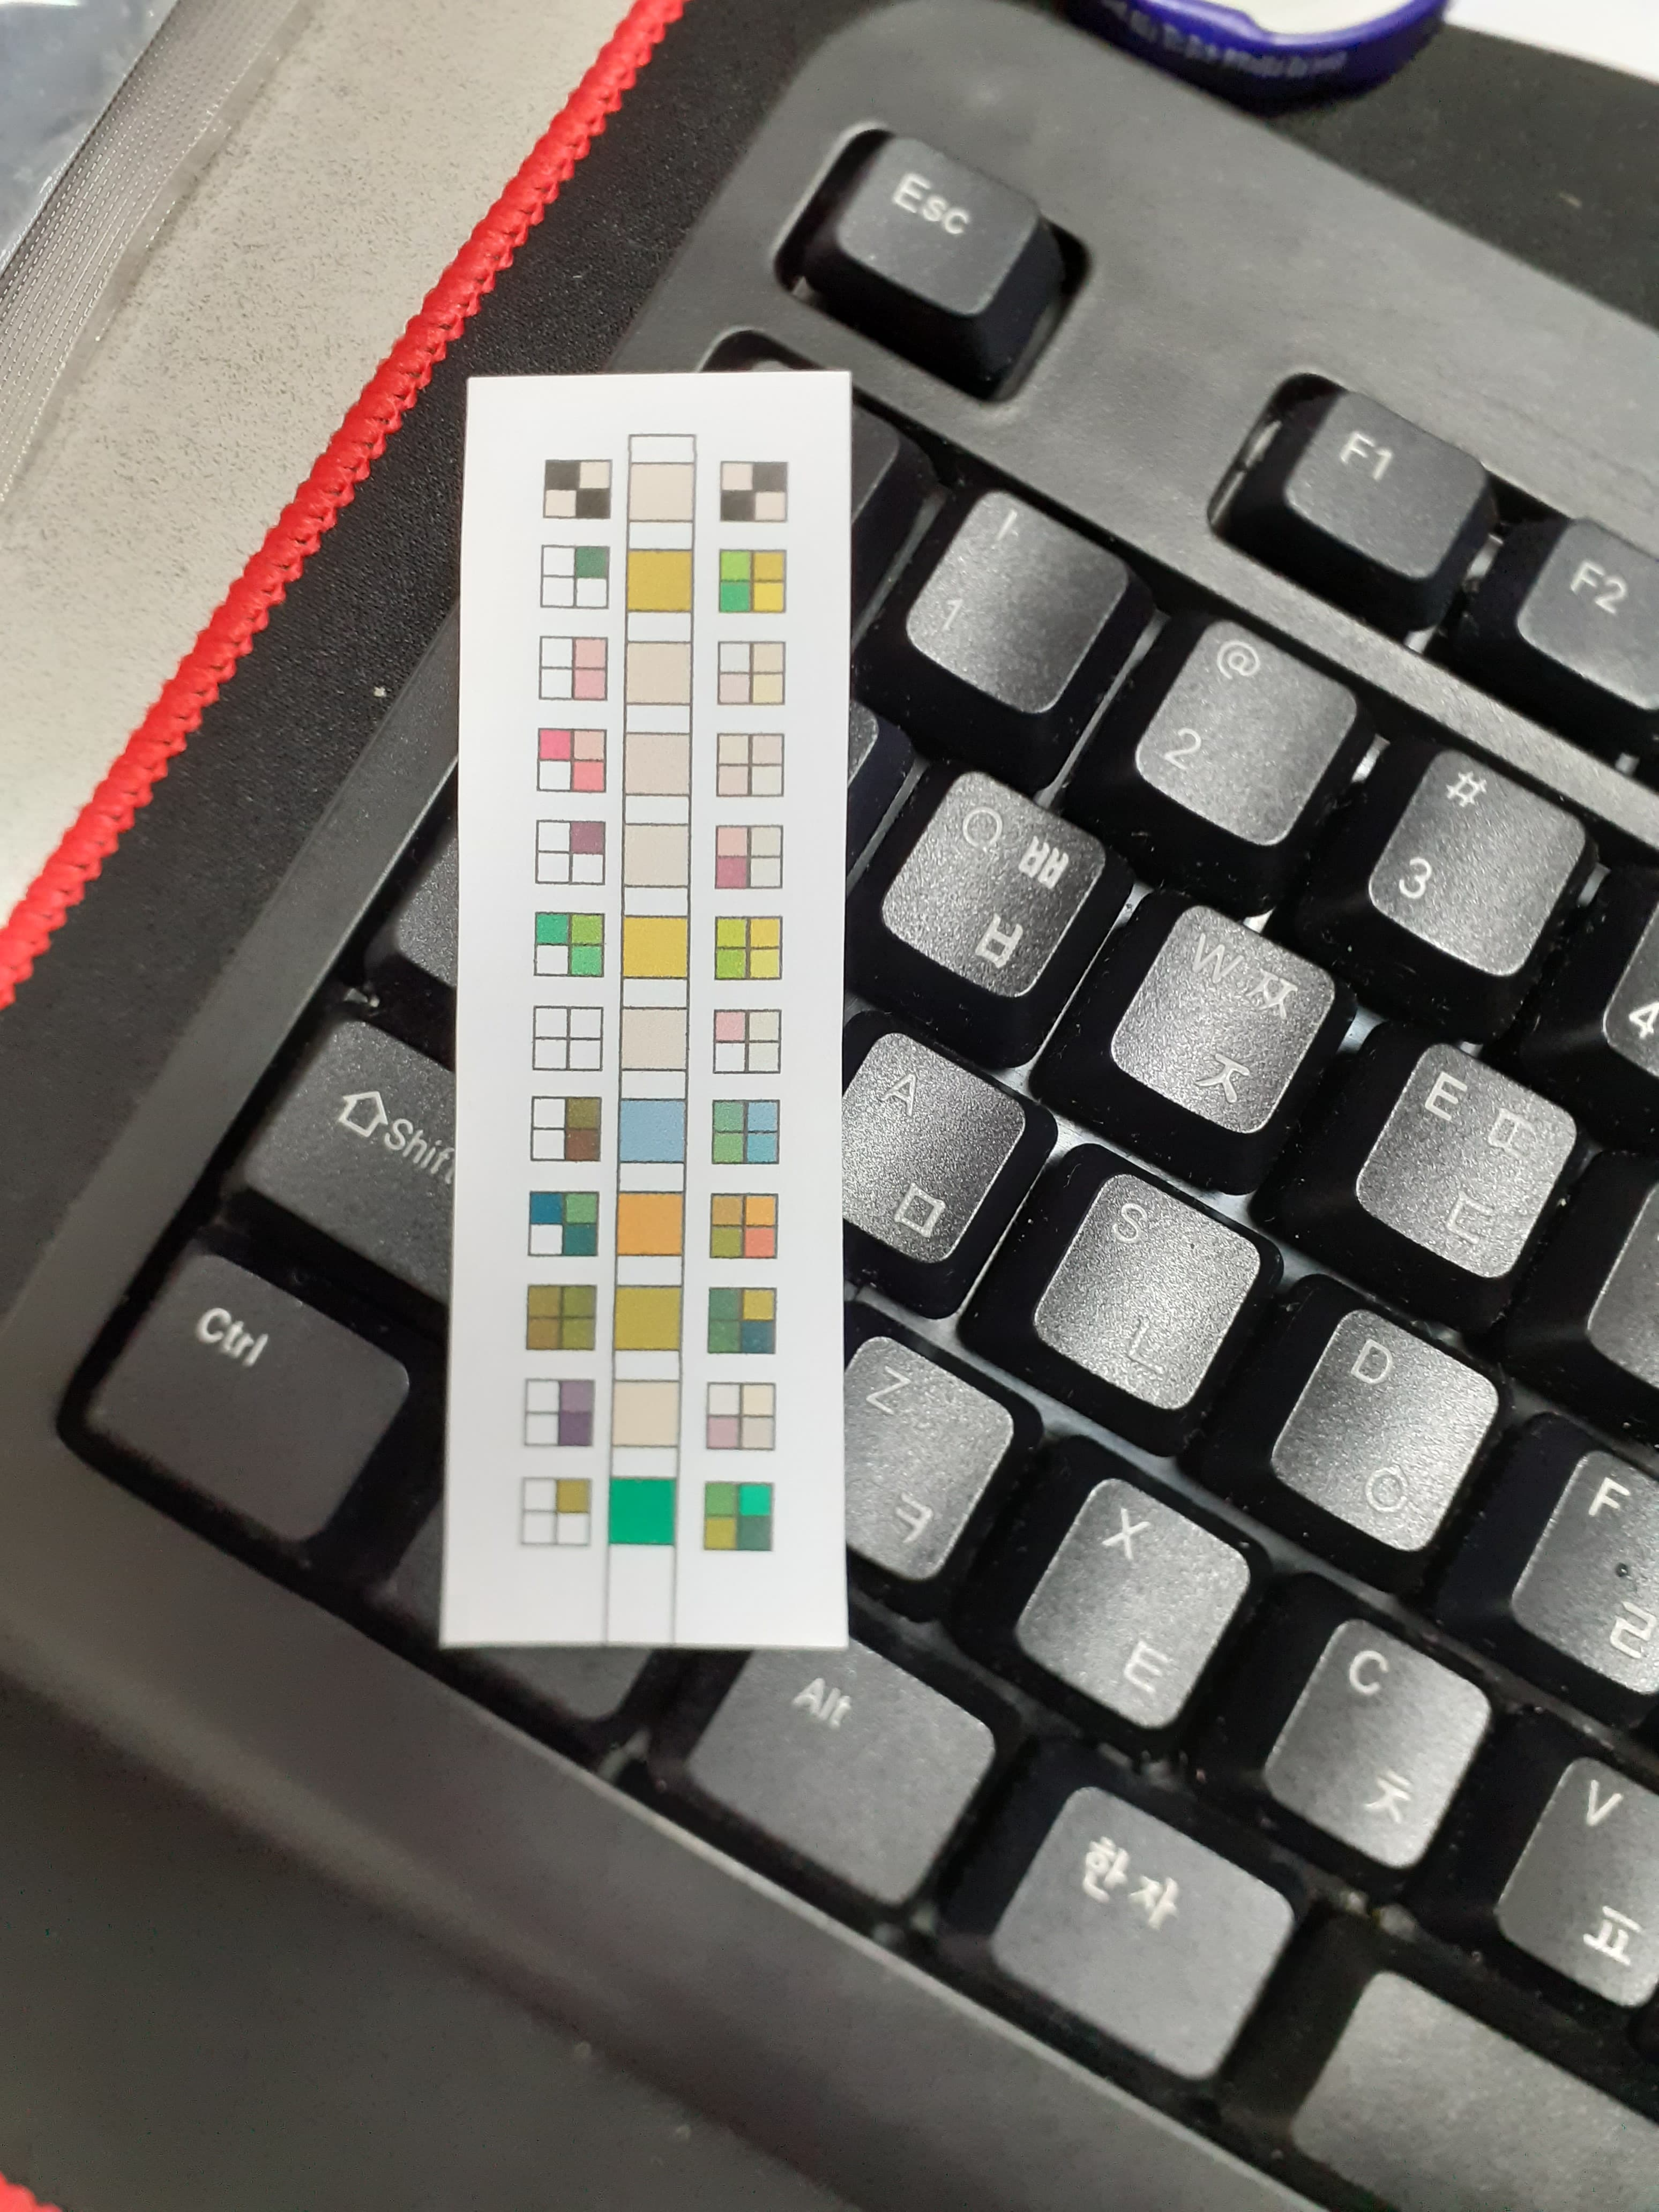tester: (462, 374, 845, 1644)
